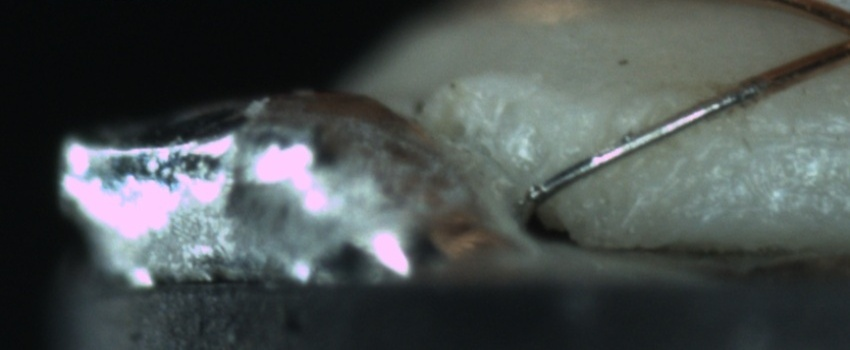CL: (831, 10, 850, 61)
DL: (688, 102, 849, 166)
TS: (532, 82, 757, 204)
